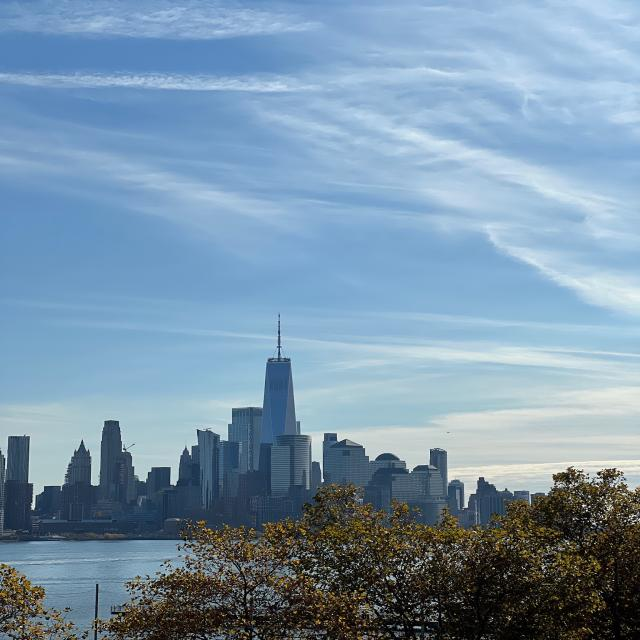WTC: (260, 314, 298, 437)
